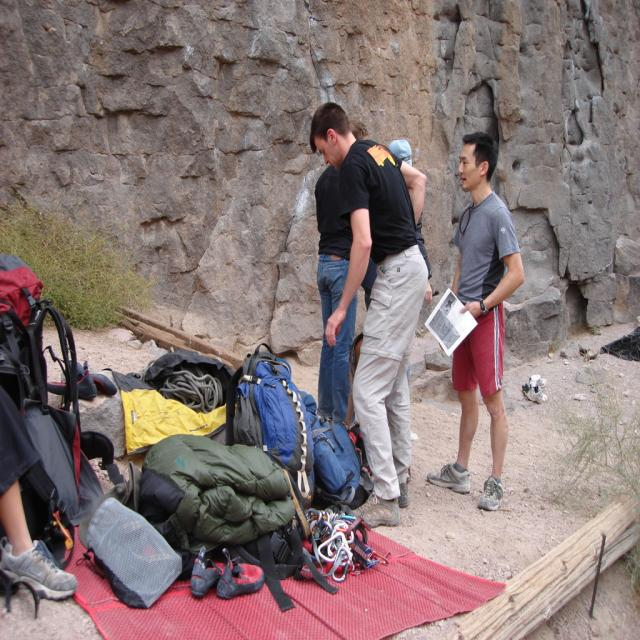backpack: (235, 350, 316, 512)
